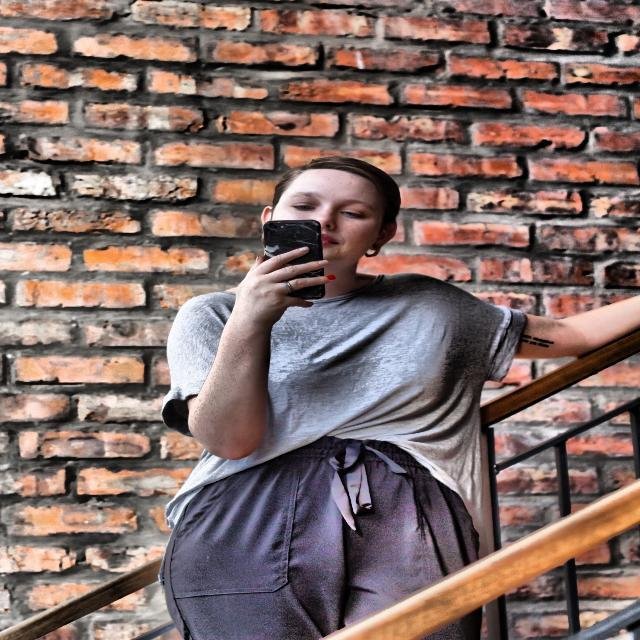Phone: (262, 218, 328, 300)
